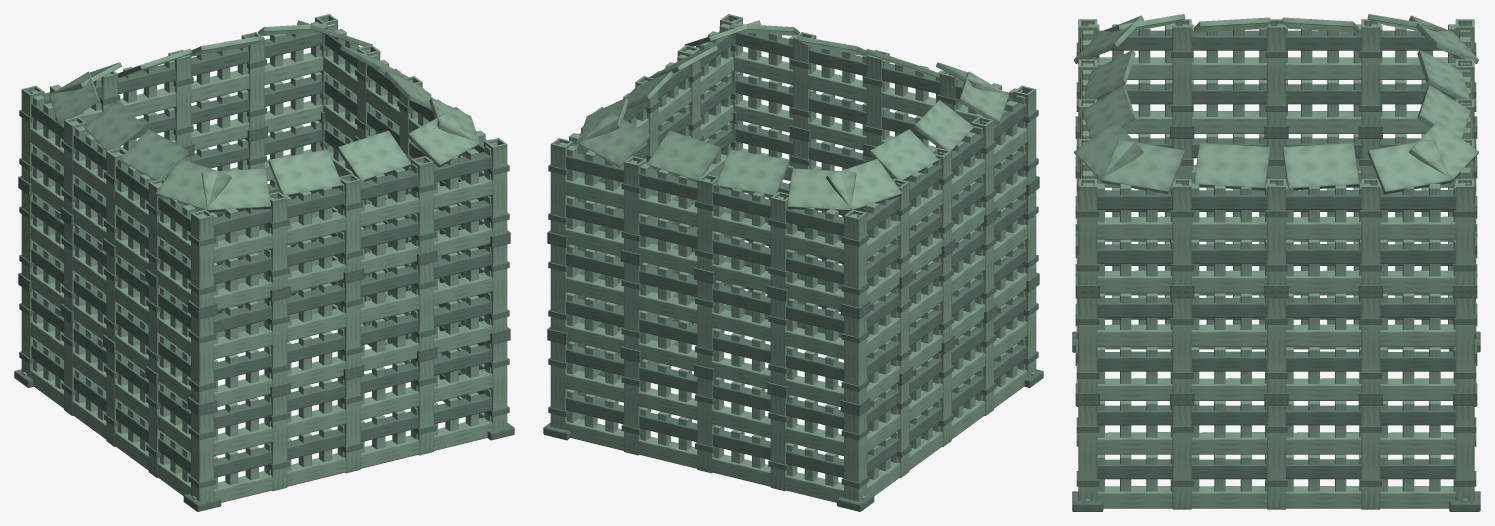
3 renders of one model, left to right at view 1: azimuth 30°, elevation 25°; view 2: azimuth 150°, elevation 25°; view 3: azimuth 270°, elevation 25°, orthographic. The views are drawn at different scales.
Parts seen in each view (by area): view 1: Crown alloy petal 0-1, Crown alloy petal 0-0, Crown alloy petal 0-2, Crown alloy petal 3-3, Crown alloy petal 3-2, Crown alloy petal 0-3, Tier 2 side 0 post 0, Crown alloy petal 3-1, Tier 0 side 0 post 0, Tier 1 side 0 post 0, Tier 2 side 1 post 0, Tier 2 side 0 post 3 (+119 smaller); view 2: Crown alloy petal 2-2, Crown alloy petal 2-3, Crown alloy petal 2-1, Crown alloy petal 3-0, Crown alloy petal 3-1, Crown alloy petal 2-0, Tier 2 side 3 post 0, Crown alloy petal 3-2, Tier 0 side 3 post 0, Tier 1 side 3 post 0, Tier 2 side 2 post 0, Crown alloy petal 3-3 (+122 smaller); view 3: Crown alloy petal 1-2, Crown alloy petal 1-1, Crown alloy petal 1-3, Crown alloy petal 1-0, Crown alloy petal 0-3, Crown alloy petal 2-0, Tier 2 side 1 post 3, Tier 2 side 1 post 1, Tier 2 side 3 post 1, Tier 2 side 3 post 3, Tier 2 side 2 post 0, Tier 2 side 1 post 0 (+91 smaller).
Boxes of the visible parts, box(x1,y1,x2,y2) form: Crown alloy petal 0-1: box(268, 149, 342, 196); Crown alloy petal 0-0: box(201, 168, 270, 212); Crown alloy petal 0-2: box(337, 130, 411, 181); Crown alloy petal 3-3: box(156, 159, 231, 210); Crown alloy petal 3-2: box(119, 129, 188, 180); Crown alloy petal 0-3: box(407, 112, 479, 167); Tier 2 side 0 post 0: box(191, 209, 213, 307); Crown alloy petal 3-1: box(84, 100, 144, 150); Tier 0 side 0 post 0: box(191, 411, 213, 501); Tier 1 side 0 post 0: box(191, 314, 213, 404); Tier 2 side 1 post 0: box(484, 138, 507, 235); Tier 2 side 0 post 3: box(411, 156, 433, 253); Crown alloy petal 2-2: box(715, 149, 789, 197); Crown alloy petal 2-3: box(787, 168, 856, 212); Crown alloy petal 2-1: box(647, 130, 720, 182); Crown alloy petal 3-0: box(826, 159, 902, 210); Crown alloy petal 3-1: box(869, 129, 938, 180); Crown alloy petal 2-0: box(578, 112, 650, 167); Tier 2 side 3 post 0: box(844, 209, 866, 307); Crown alloy petal 3-2: box(913, 100, 974, 150); Tier 0 side 3 post 0: box(844, 411, 866, 501); Tier 1 side 3 post 0: box(844, 314, 866, 404); Tier 2 side 2 post 0: box(550, 138, 573, 235); Crown alloy petal 3-3: box(958, 71, 1008, 124); Crown alloy petal 1-2: box(1282, 143, 1358, 190); Crown alloy petal 1-1: box(1194, 143, 1270, 190); Crown alloy petal 1-3: box(1367, 139, 1451, 194); Crown alloy petal 1-0: box(1102, 139, 1185, 194); Crown alloy petal 0-3: box(1074, 121, 1143, 182); Crown alloy petal 2-0: box(1409, 121, 1478, 182); Tier 2 side 1 post 3: box(1361, 179, 1380, 284); Tier 2 side 1 post 1: box(1172, 179, 1191, 284); Tier 2 side 3 post 1: box(1361, 19, 1380, 125); Tier 2 side 3 post 3: box(1172, 19, 1191, 125); Tier 2 side 2 post 0: box(1455, 179, 1474, 284); Tier 2 side 1 post 0: box(1078, 179, 1097, 284).
Size of the model in its own units: 1.95 by 1.81 by 1.95.
2 materials, 2 textured.
